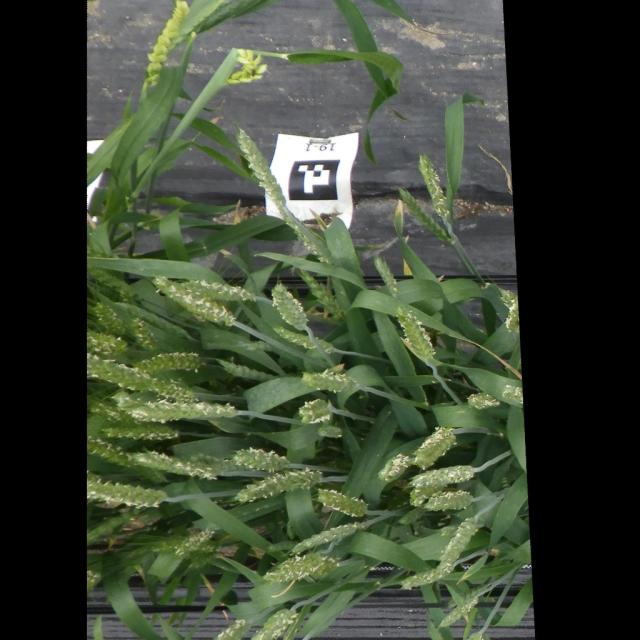wheat: (87, 349, 200, 402), (171, 0, 281, 51), (151, 274, 236, 326), (235, 126, 287, 206), (145, 0, 191, 86), (228, 467, 323, 504), (396, 185, 452, 243), (278, 205, 333, 264), (112, 300, 192, 339), (86, 469, 167, 507), (122, 448, 218, 480), (122, 397, 238, 423), (287, 520, 369, 556), (86, 506, 150, 549), (298, 268, 346, 323), (437, 517, 479, 572), (418, 152, 450, 224), (395, 304, 436, 359), (257, 552, 324, 585), (87, 263, 145, 301), (236, 340, 304, 371), (411, 426, 458, 470), (270, 279, 309, 331), (177, 277, 255, 302), (249, 604, 300, 640), (408, 463, 475, 489), (223, 47, 268, 85), (181, 616, 252, 640), (130, 351, 204, 374), (228, 445, 291, 472), (86, 434, 137, 467), (145, 533, 223, 554), (214, 357, 279, 382), (399, 563, 455, 591), (298, 368, 358, 394), (316, 487, 368, 517), (98, 423, 178, 442), (90, 299, 129, 336), (89, 400, 137, 428), (187, 452, 254, 472), (127, 315, 161, 353), (421, 488, 474, 512), (270, 325, 318, 351), (87, 327, 129, 356), (173, 528, 215, 556), (372, 254, 397, 299), (377, 452, 411, 483), (296, 398, 331, 425), (105, 389, 146, 411), (408, 485, 448, 507), (125, 464, 166, 483), (465, 391, 503, 409), (308, 555, 337, 576), (396, 504, 426, 524), (188, 550, 217, 570), (437, 605, 462, 627), (504, 296, 519, 332), (501, 383, 523, 406), (265, 539, 301, 553), (86, 568, 102, 595), (87, 245, 120, 258), (317, 424, 343, 439), (464, 585, 489, 600), (424, 634, 485, 640), (498, 288, 516, 308), (460, 596, 478, 616), (306, 305, 331, 319), (316, 336, 335, 354), (439, 523, 460, 536), (285, 518, 295, 541), (500, 475, 511, 489), (286, 371, 302, 377), (491, 550, 497, 554)
